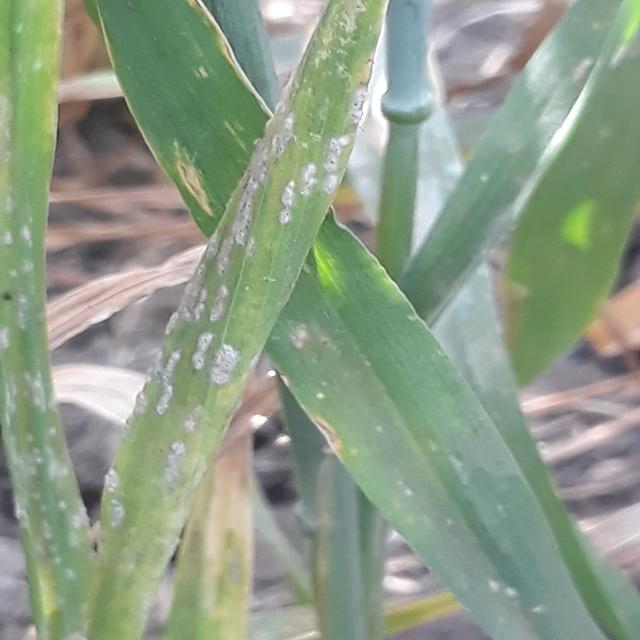powder_mildew: (120, 3, 397, 640), (403, 0, 640, 309), (0, 6, 112, 639), (397, 376, 577, 640)
